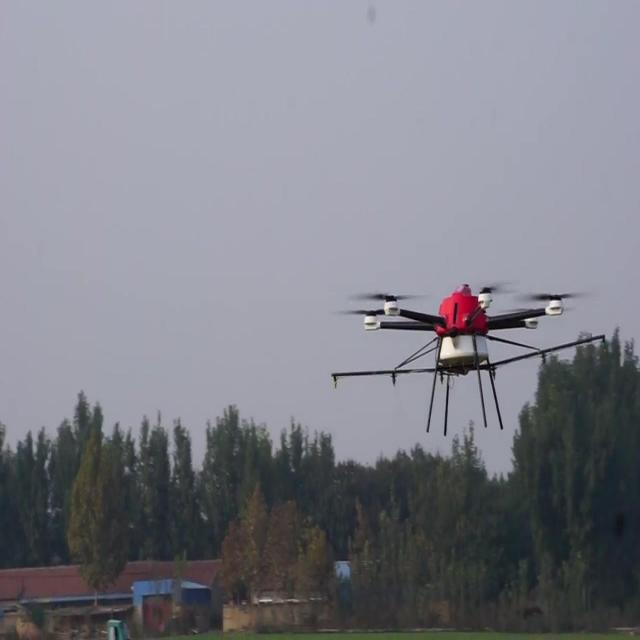UAV: (330, 278, 606, 436)
